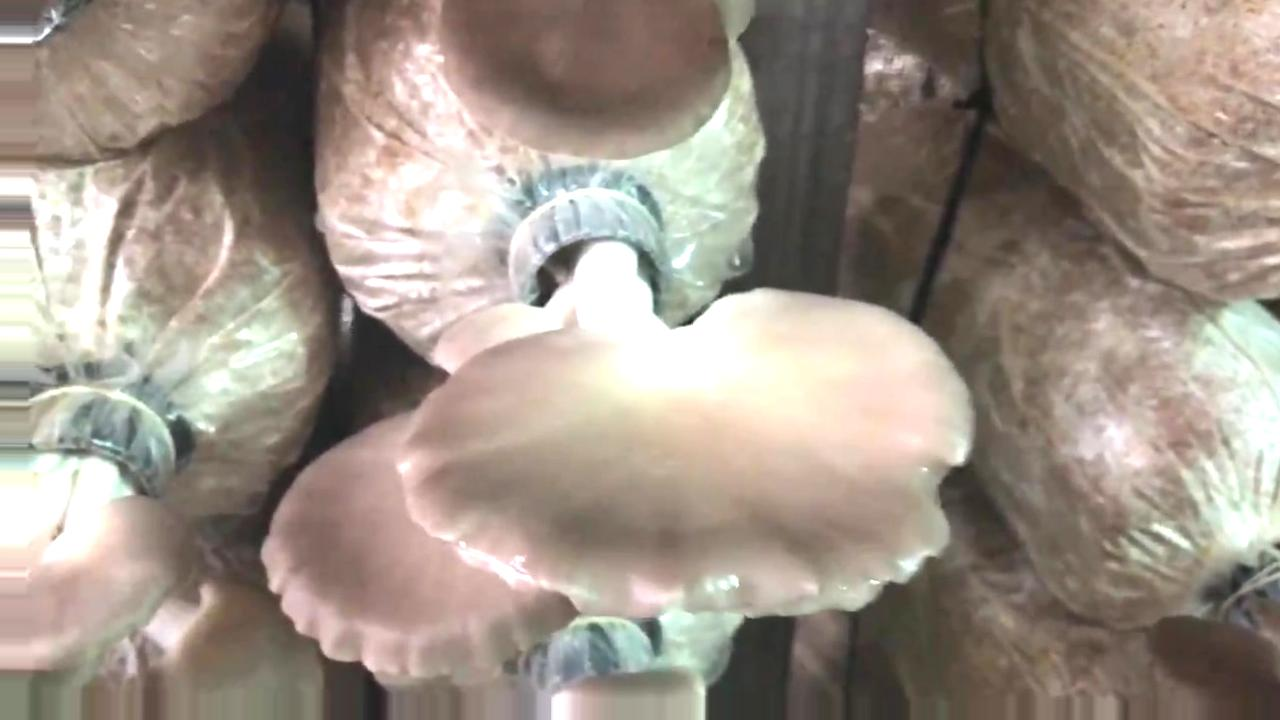nam: (396, 180, 975, 623), (260, 409, 585, 689), (20, 380, 198, 677), (432, 2, 730, 164)
